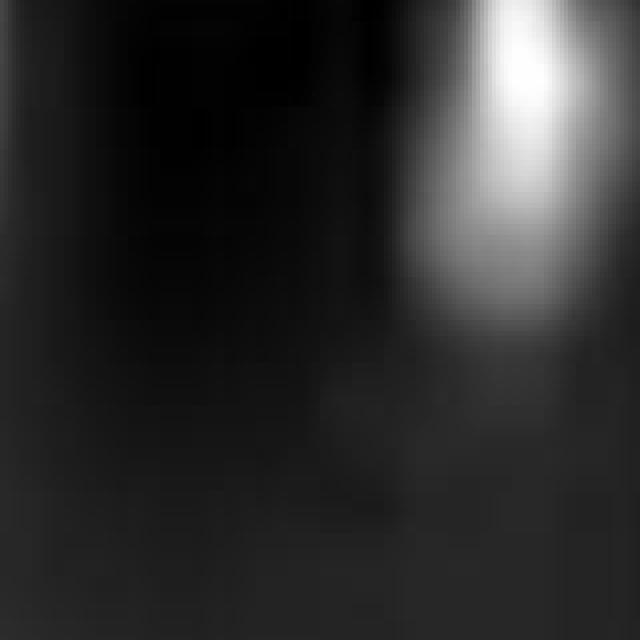person: (401, 1, 640, 390)
